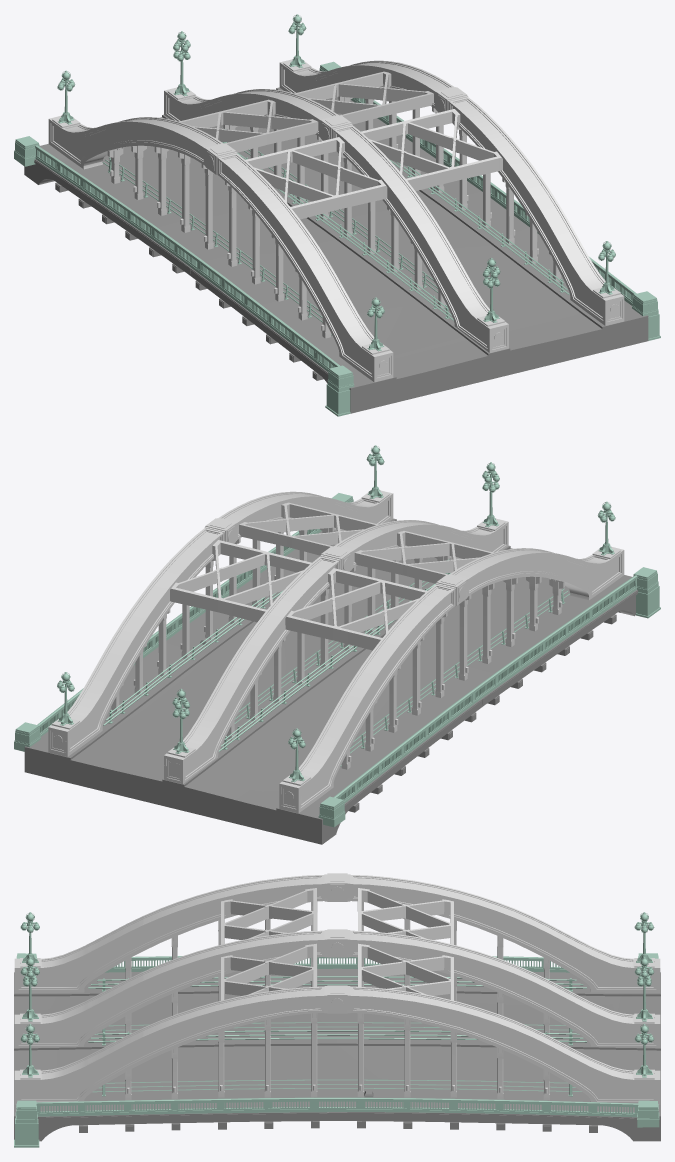
Rendered from P001_ElginBridge.fbx.
3 views of the same model, one above another, from view 1: azimuth 30°, elevation 25°; view 2: azimuth 150°, elevation 25°; view 3: azimuth 270°, elevation 25° (orthographic).
Parts seen in each view (by area): view 1: Arch, Deck, Columns, OuterRailing, InnerRailing, StreetLamps; view 2: Arch, Deck, Columns, OuterRailing, InnerRailing, StreetLamps; view 3: Arch, Deck, OuterRailing, Columns, InnerRailing, StreetLamps.
Boxes of the visible parts, left/top/right/bottom form: Arch: left=48, top=59, right=624, bottom=382; Deck: left=24, top=87, right=648, bottom=413; Columns: left=107, top=96, right=561, bottom=338; OuterRailing: left=14, top=61, right=660, bottom=416; InnerRailing: left=102, top=128, right=569, bottom=335; StreetLamps: left=57, top=14, right=615, bottom=351; Arch: left=48, top=490, right=624, bottom=813; Deck: left=24, top=518, right=638, bottom=844; Columns: left=111, top=527, right=564, bottom=769; OuterRailing: left=14, top=493, right=660, bottom=827; InnerRailing: left=103, top=559, right=569, bottom=766; StreetLamps: left=57, top=445, right=615, bottom=782; Arch: left=14, top=873, right=660, bottom=1104; Deck: left=14, top=968, right=660, bottom=1141; OuterRailing: left=14, top=953, right=659, bottom=1147; Columns: left=125, top=901, right=549, bottom=1100; InnerRailing: left=88, top=976, right=586, bottom=1096; StreetLamps: left=20, top=912, right=654, bottom=1077.
Size of the model in its own units: 2728 by 1104 by 4774.
